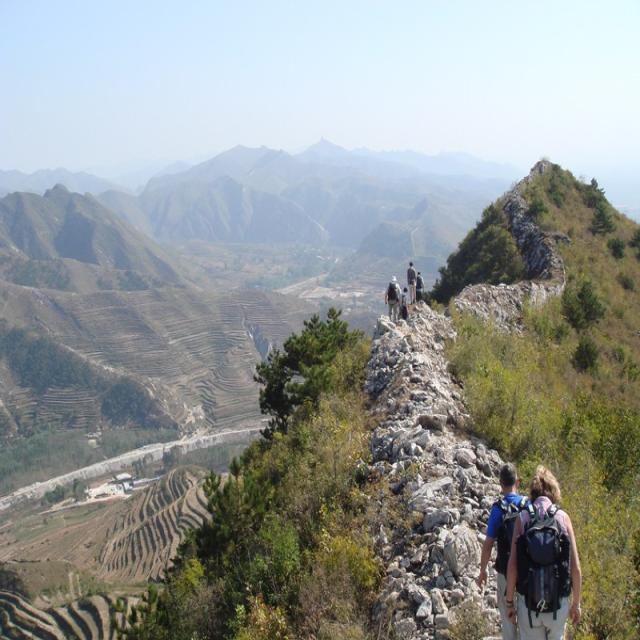body: (503, 463, 584, 639), (475, 464, 534, 640), (384, 276, 402, 326), (406, 260, 416, 306), (414, 271, 425, 306), (400, 286, 409, 322)
